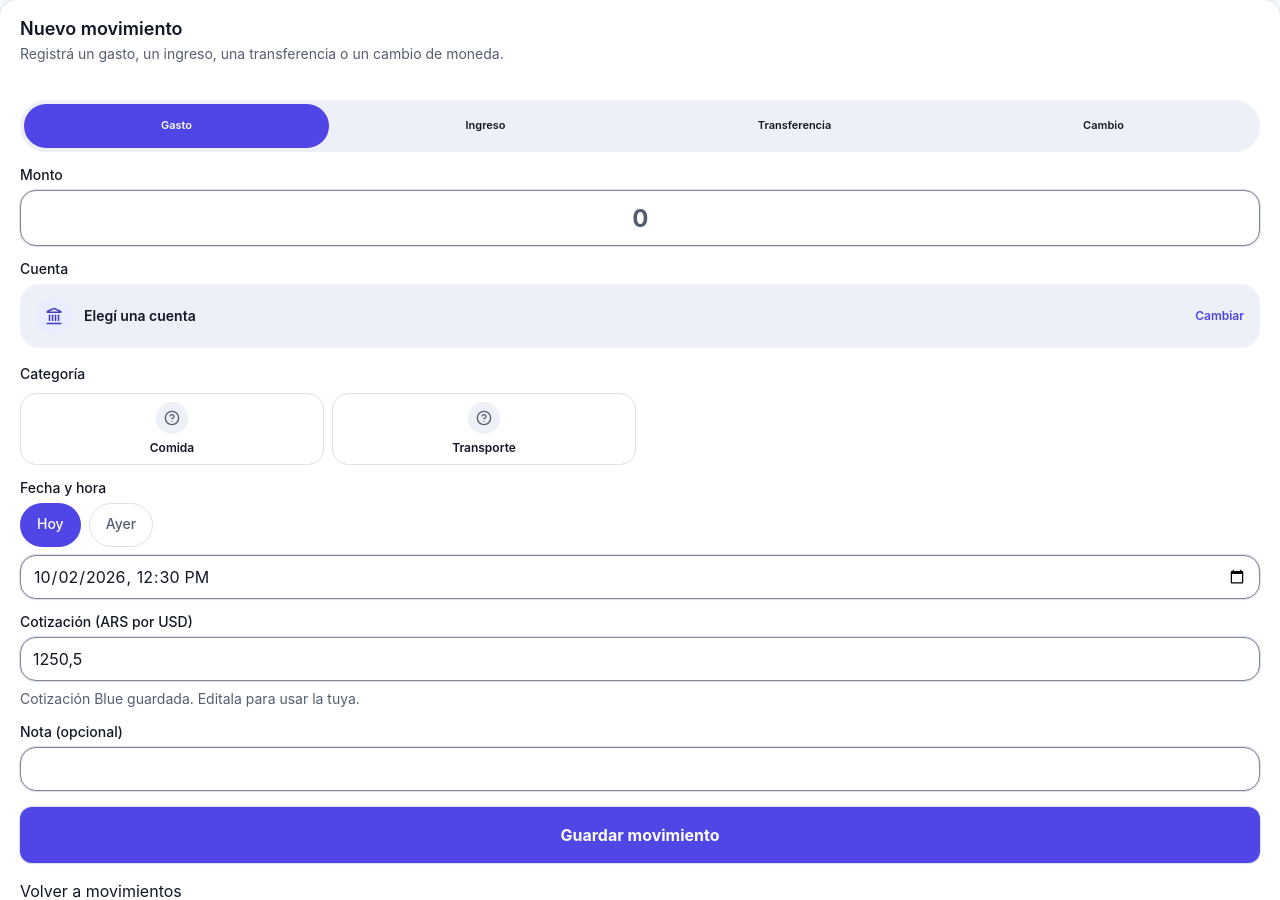
Test case: MovementForm: transfers and exchanges (DISC-001-03c) › shows the preview the container computes: empty, with a rate or out of range (AC-05, AC-14, AC-15)
Click the button with aria-label "Cambio de moneda": (1104, 126) [951, 104, 1256, 148]
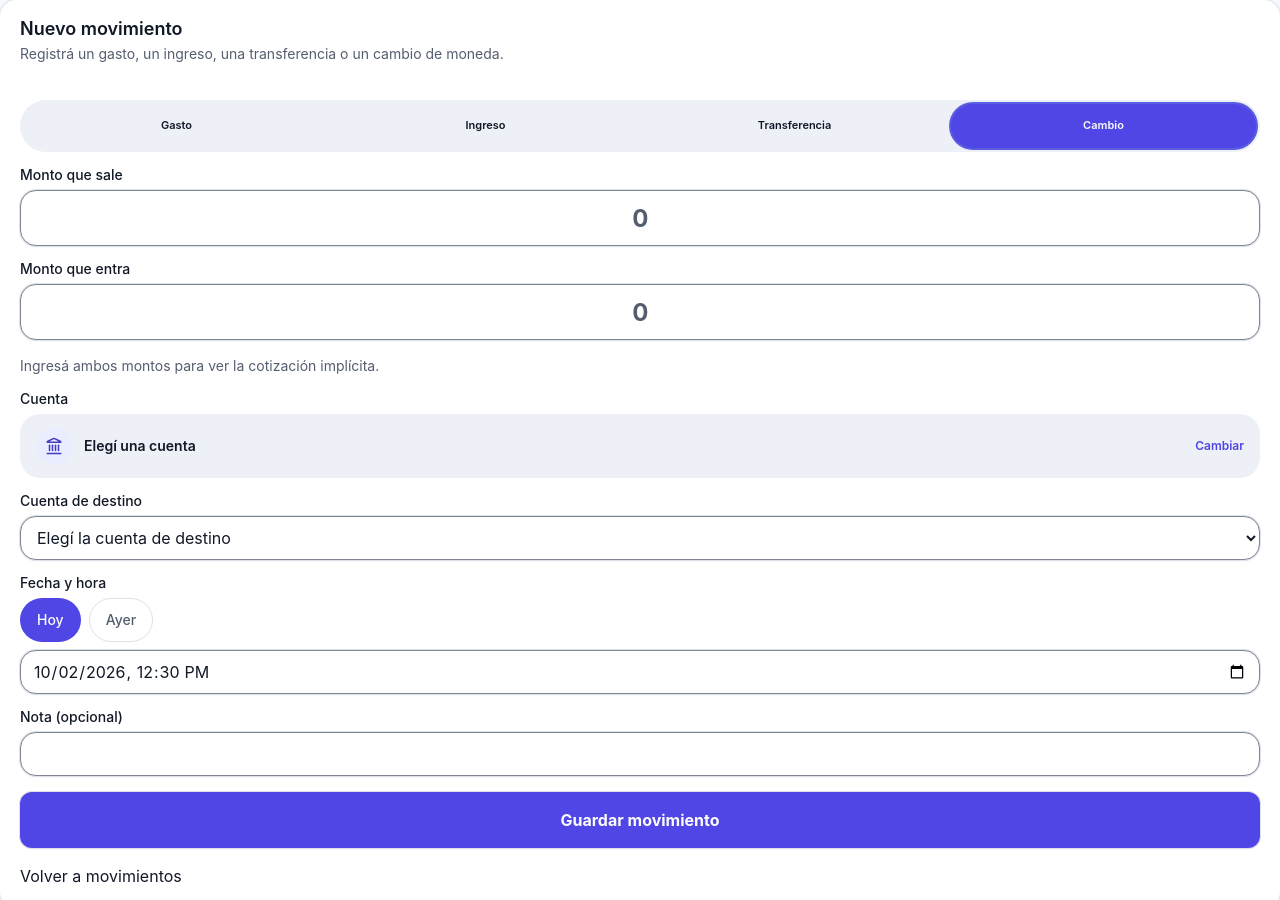
Select "Caja (ARS)" in the dropdown labelled "Cuenta": (44, 399) [20, 390, 68, 407]
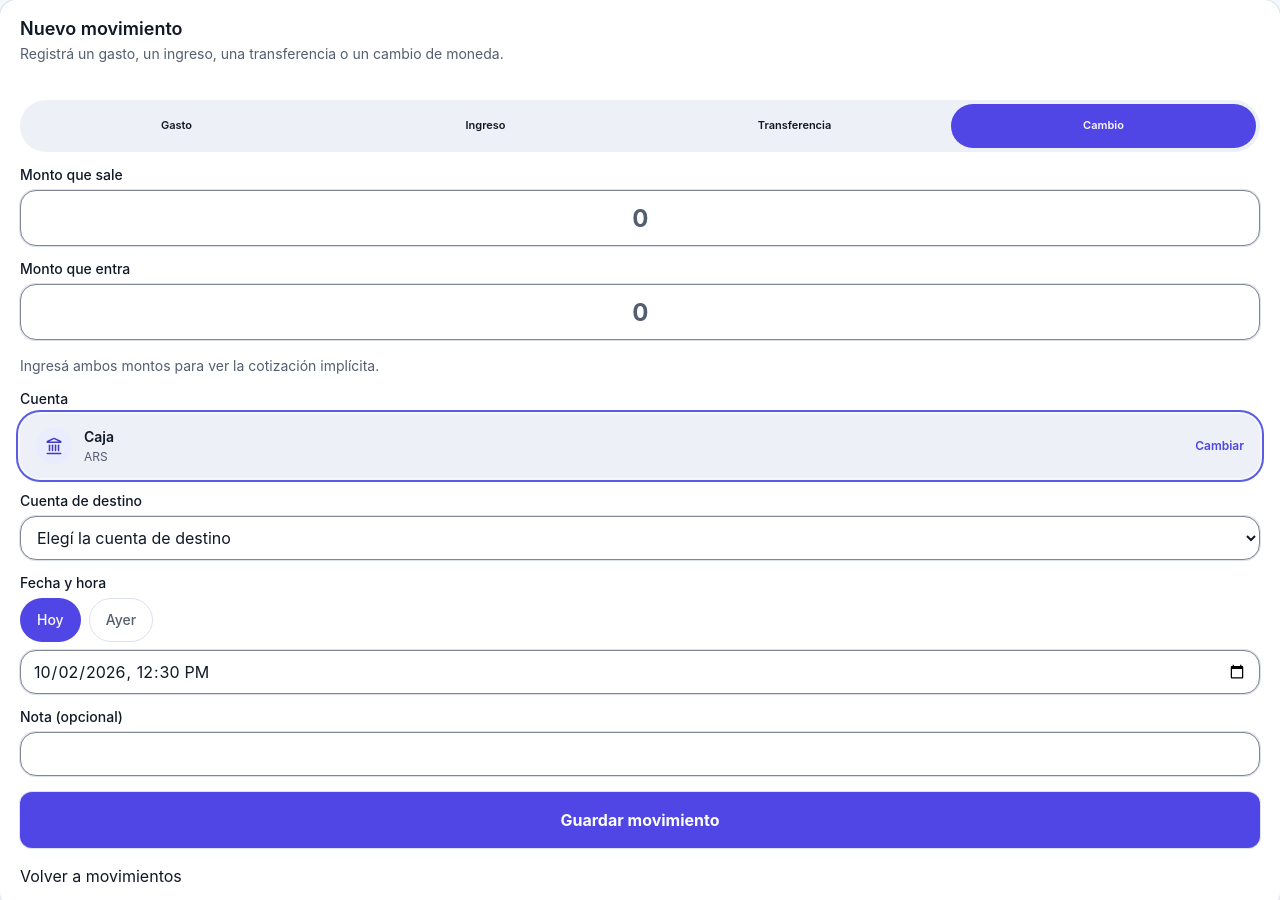
Select "Dolares (USD)" in the dropdown labelled "Cuenta de destino": (640, 538) [20, 516, 1260, 560]
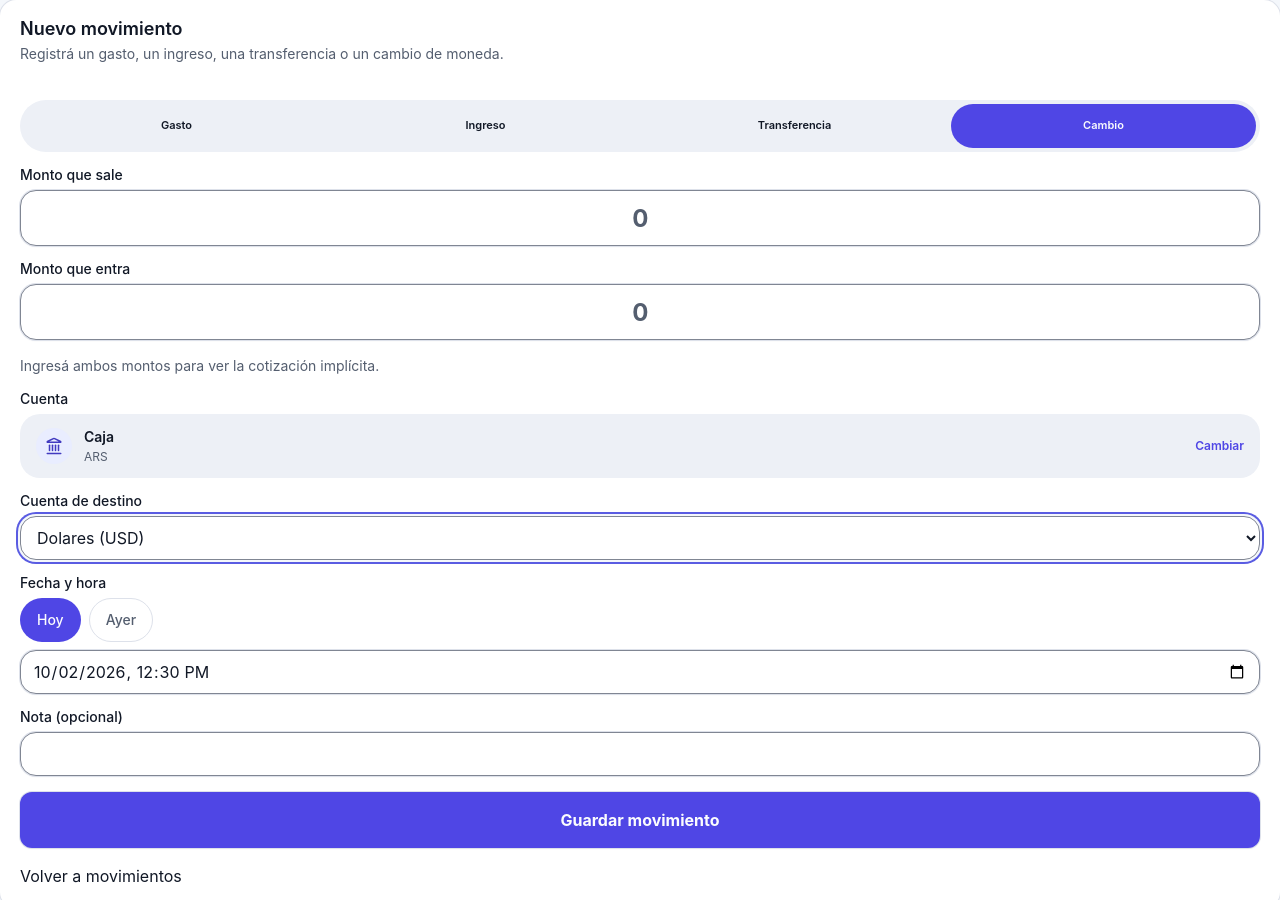
Check: the text "Ingresá ambos montos para ver la cotización implícita." is shown, box [20, 357, 379, 374]
In the field labelled "Monto que sale": (640, 218) [20, 190, 1260, 246], type "1"
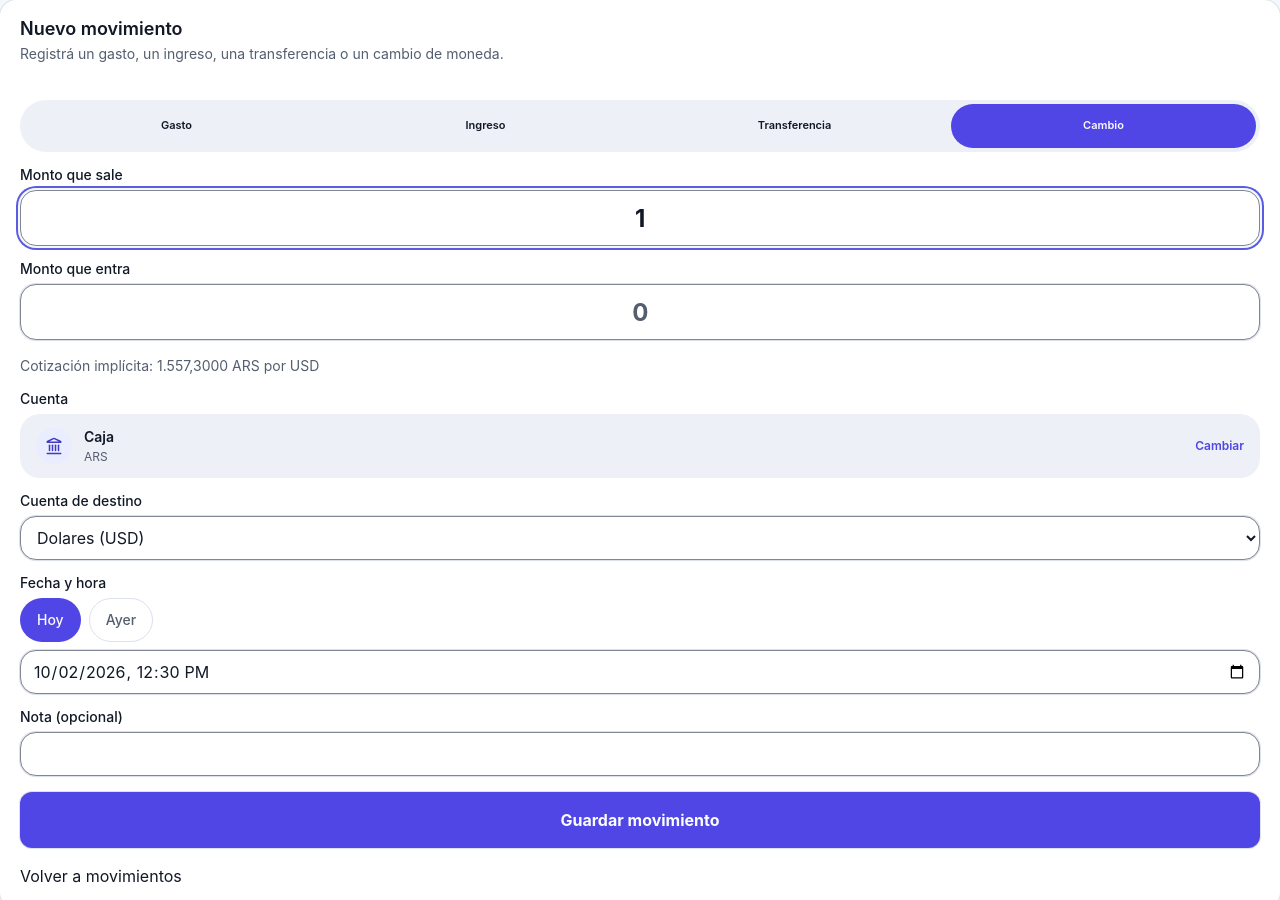
Check: the message shows "1.557,3000", box [20, 357, 319, 374]
In the field labelled "Monto que entra": (640, 312) [20, 284, 1260, 340], type "1"
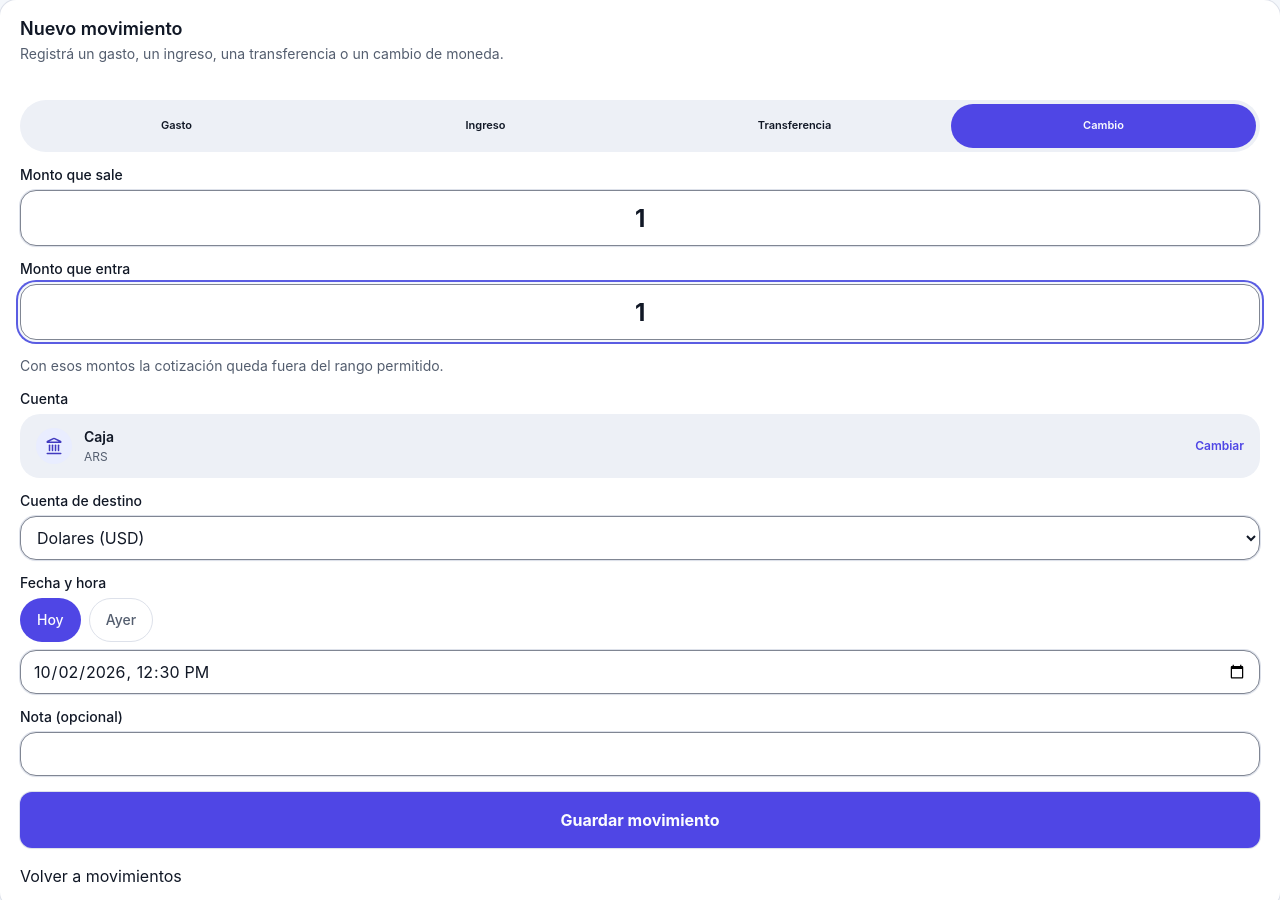
Check: the message reads "Con esos montos la cotización queda fuera del rango permitido.", box [20, 357, 444, 374]
